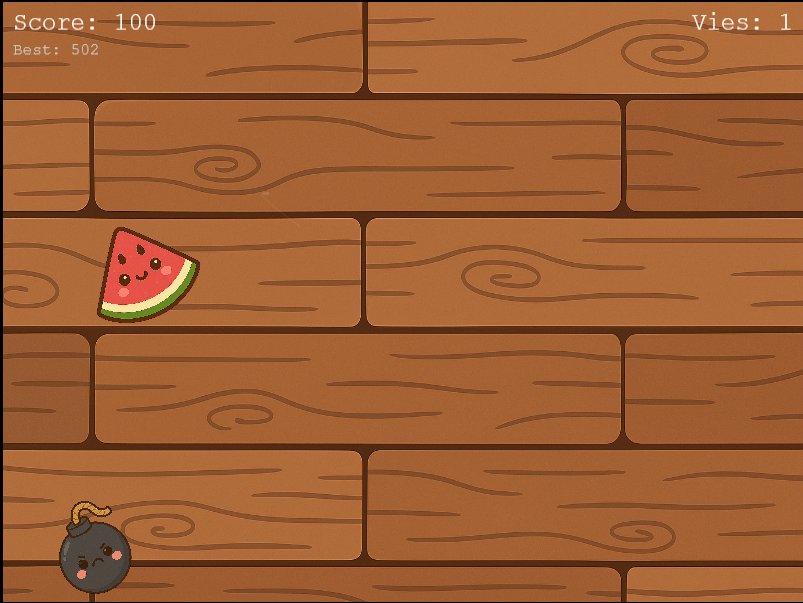bomb: (52, 497, 138, 598)
fruit: (91, 224, 205, 335)
